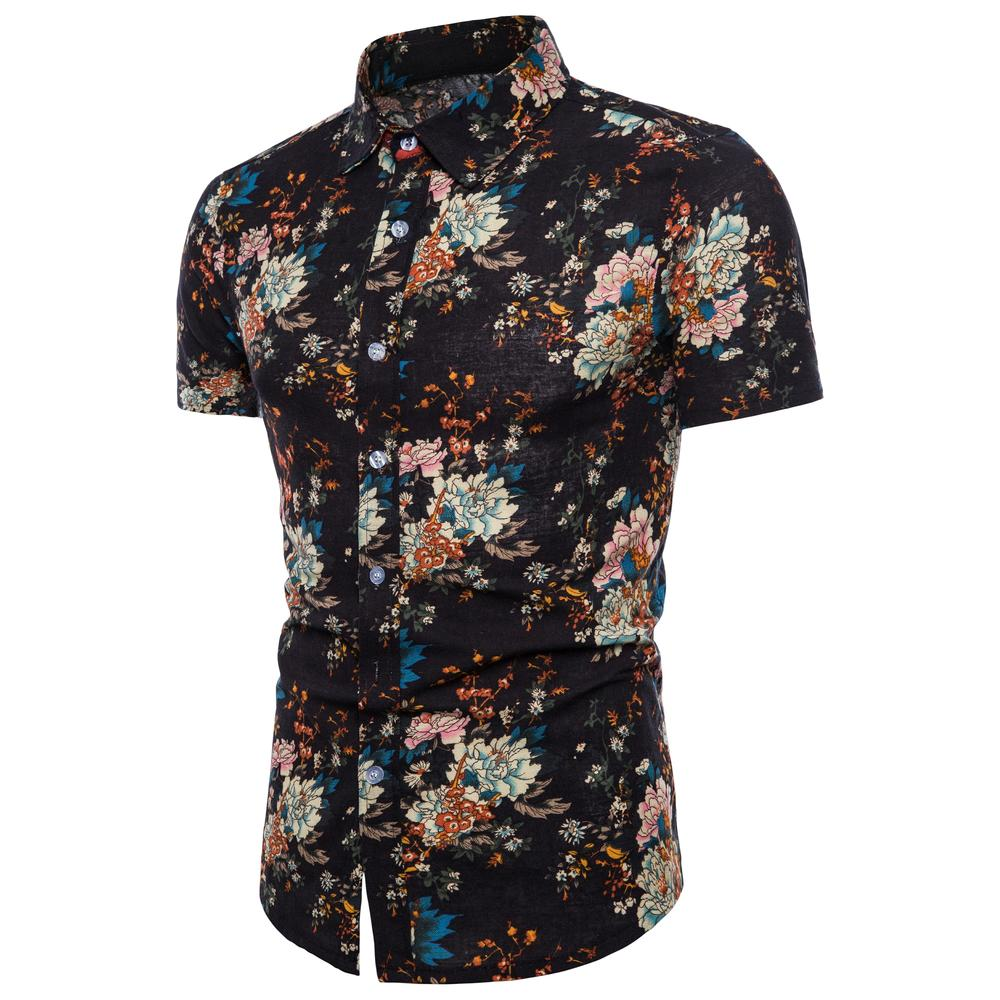shirts: (179, 9, 827, 985)
